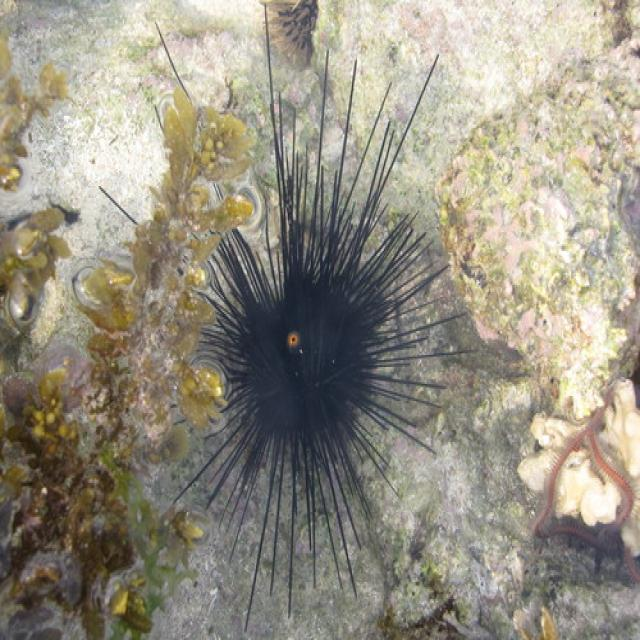Urchin: (96, 7, 475, 624)
